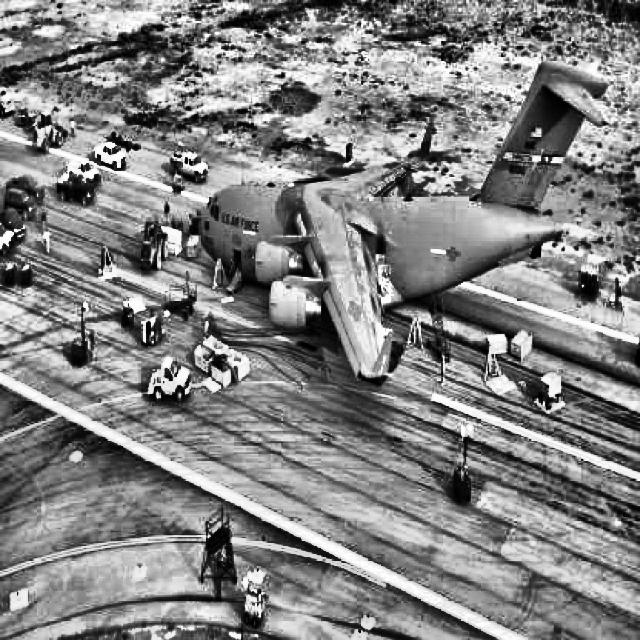C17: (198, 58, 613, 380)
